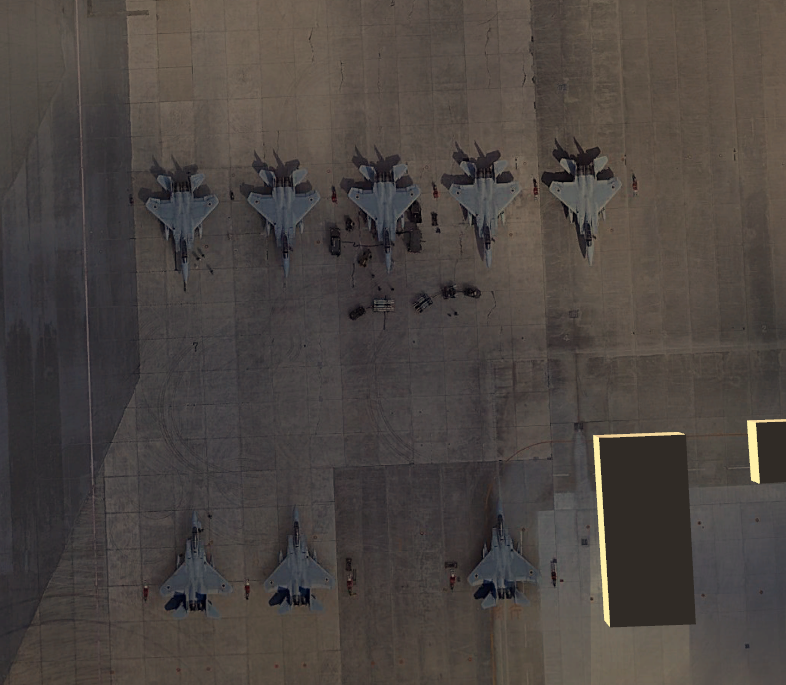A13: (143, 165, 221, 297), (247, 158, 325, 290), (346, 151, 424, 283), (447, 144, 525, 276), (545, 140, 623, 272), (152, 499, 231, 624), (256, 499, 337, 617), (465, 499, 546, 617)
